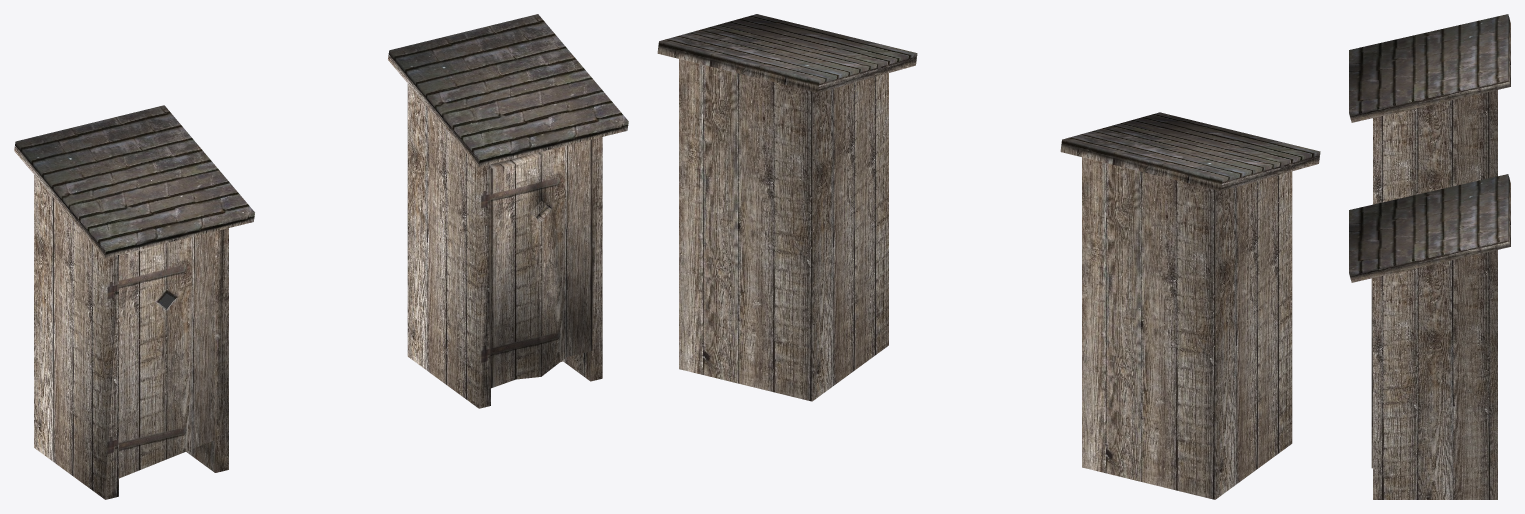
The model's file is toilets.obj.
The picture shows the model from 3 angles, left to right: view 1: azimuth 30°, elevation 25°; view 2: azimuth 150°, elevation 25°; view 3: azimuth 270°, elevation 25°; orthographic projection. The views are drawn at different scales.
Parts seen in each view (by area): view 1: lowpoly_toilet, highpoly_toilet, toilet_door; view 2: lowpoly_toilet, highpoly_toilet; view 3: highpoly_toilet, lowpoly_toilet, toilet_door.
Boxes of the visible parts, left/top/right/bottom form: lowpoly_toilet: left=14, top=105, right=254, bottom=499; highpoly_toilet: left=388, top=14, right=628, bottom=408; toilet_door: left=489, top=139, right=592, bottom=388; lowpoly_toilet: left=1060, top=112, right=1320, bottom=499; highpoly_toilet: left=657, top=14, right=917, bottom=401; highpoly_toilet: left=1349, top=174, right=1510, bottom=499; lowpoly_toilet: left=1349, top=14, right=1510, bottom=204; toilet_door: left=1371, top=278, right=1372, bottom=468.
Bounding box in the file's own units: 4.22 × 2.36 × 1.29.
Materials: 4 (4 with a texture image).
